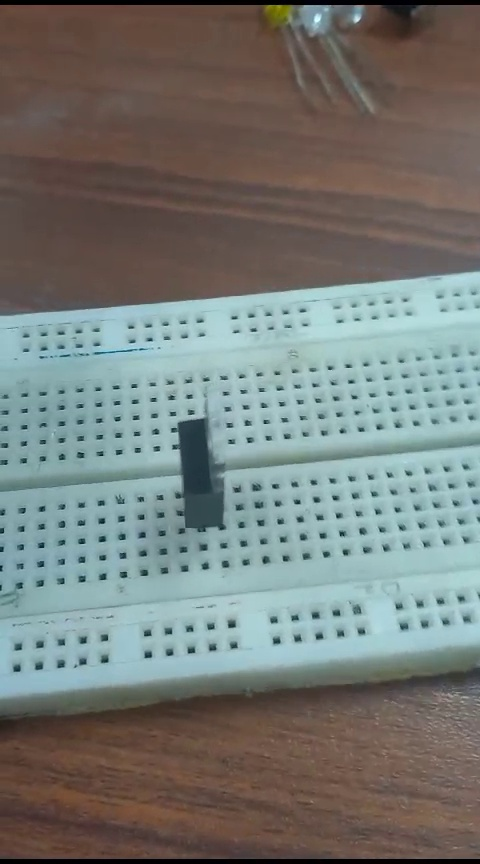voltage regulator: (149, 387, 240, 537)
